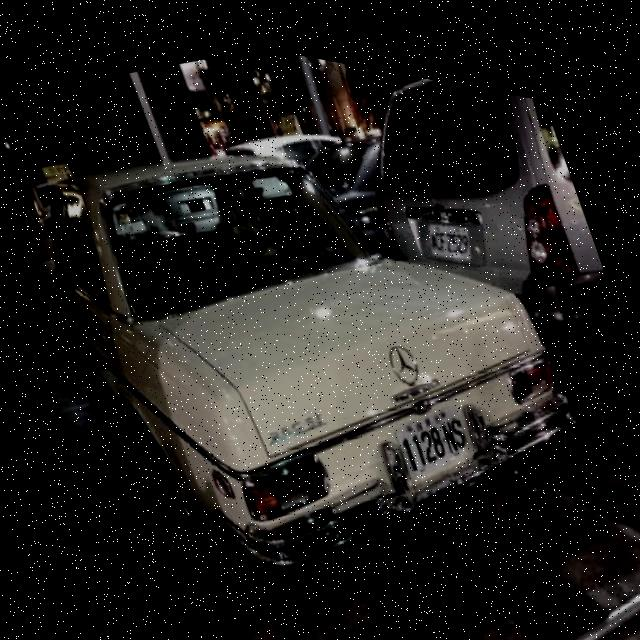license_plate: (386, 378, 476, 474), (422, 194, 479, 256)
